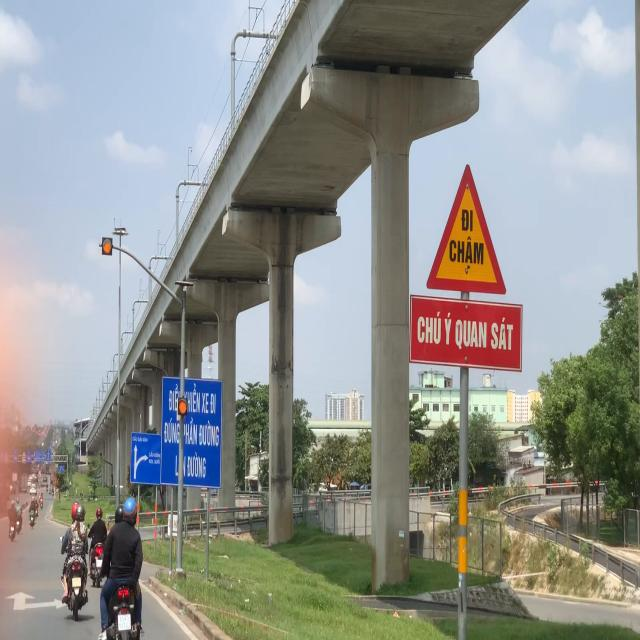Nguy hiem: (424, 155, 512, 299)
